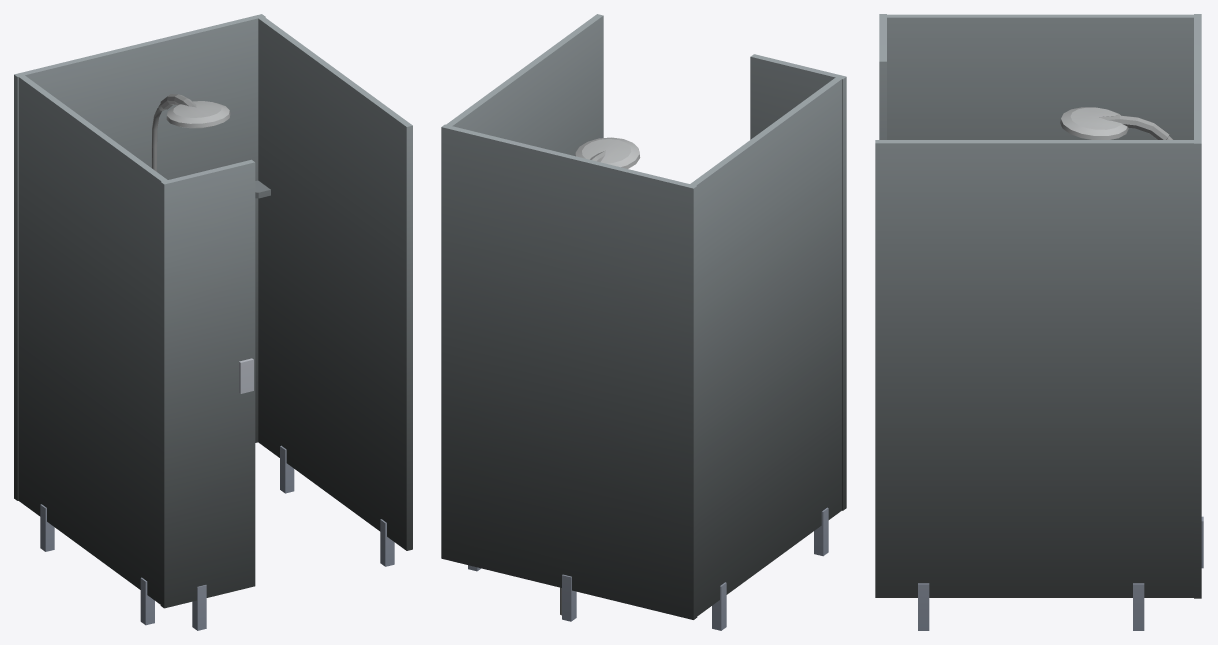
File: Shower Cubicle.fbx
The picture shows the model from 3 angles, left to right: view 1: azimuth 30°, elevation 25°; view 2: azimuth 150°, elevation 25°; view 3: azimuth 270°, elevation 25°; orthographic projection. The views are drawn at different scales.
Parts seen in each view (by area): view 1: Shower Cubicle; view 2: Shower Cubicle; view 3: Shower Cubicle.
Part boxes in pixels (x1,y1,x2,y2): Shower Cubicle: (14,14,412,630); Shower Cubicle: (441,14,846,630); Shower Cubicle: (875,14,1203,630).
Bounding box in the file's own units: 120 × 211 × 128.
